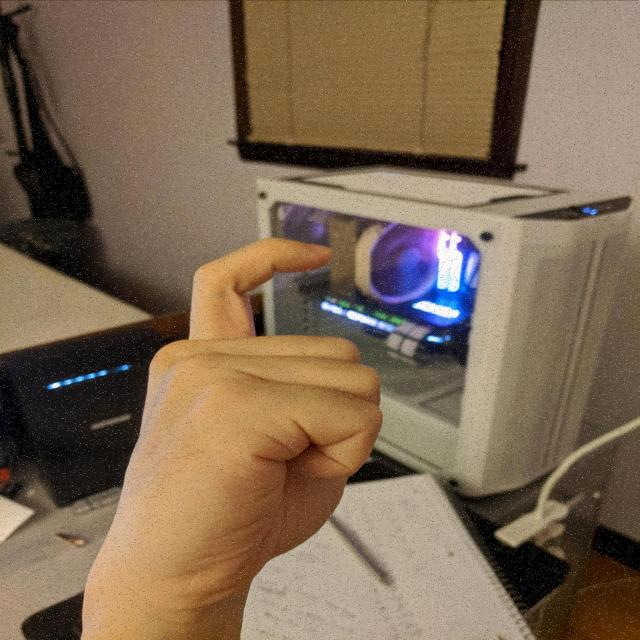X: (77, 233, 390, 595)
